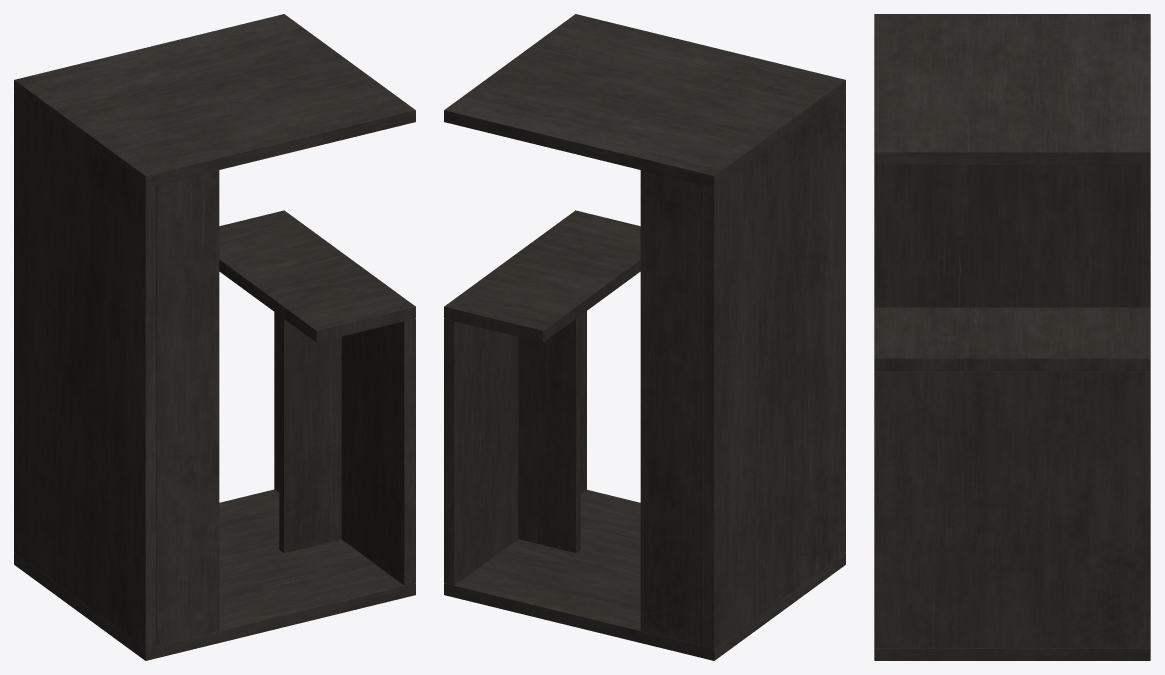
3 views of the same model, side by side, from view 1: azimuth 30°, elevation 25°; view 2: azimuth 150°, elevation 25°; view 3: azimuth 270°, elevation 25° (orthographic). The views are drawn at different scales.
Visible parts, largest first — view 1: wood; view 2: wood; view 3: wood.
Part boxes in pixels (box(x1,y1,x2,y2)): wood: box(14, 14, 415, 660); wood: box(444, 14, 845, 660); wood: box(874, 14, 1150, 660).
Bounding box in the file's own units: 0.35 × 0.6 × 0.295.
Materials: 1 (1 with a texture image).
